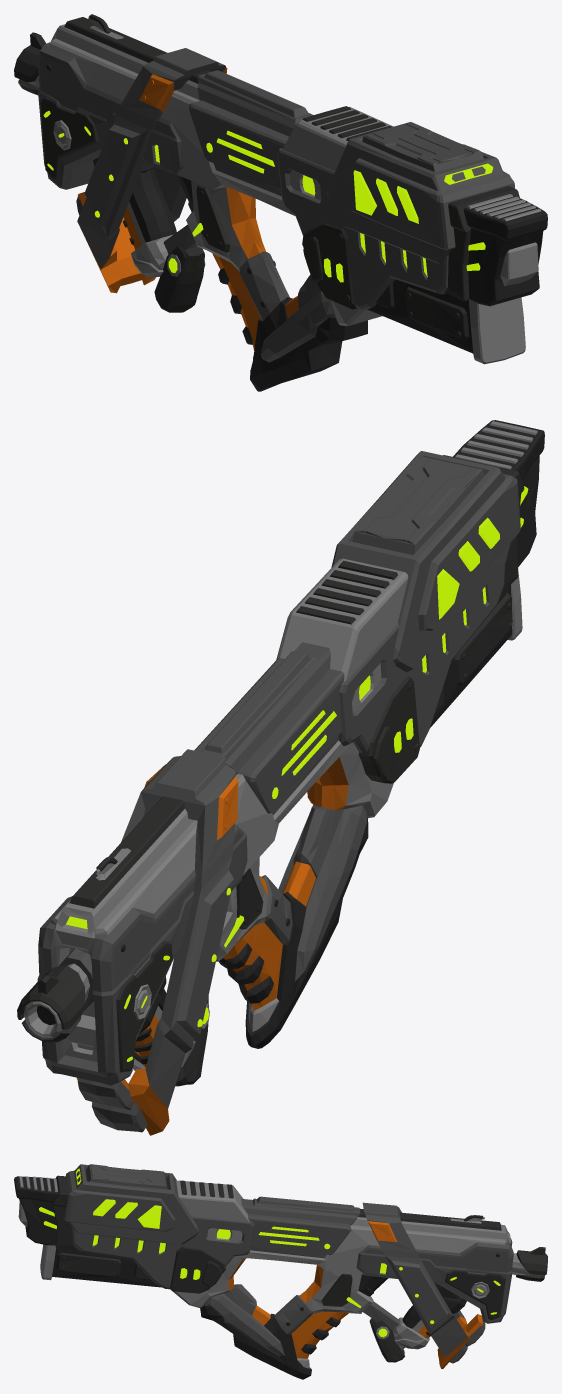
Rendered from energyshotgun.glb.
3 renders of one model, top to bottom at view 1: azimuth 30°, elevation 25°; view 2: azimuth 150°, elevation 25°; view 3: azimuth 270°, elevation 25°, orthographic. The views are drawn at different scales.
Parts seen in each view (by area): view 1: energyshotgun; view 2: energyshotgun; view 3: energyshotgun.
Boxes of the visible parts, x1,y1,x2,y2 form: energyshotgun: [14, 14, 547, 391]; energyshotgun: [17, 420, 544, 1135]; energyshotgun: [14, 1164, 547, 1379].
Bounding box in the file's own units: 0.1223 × 0.3663 × 0.8303.
